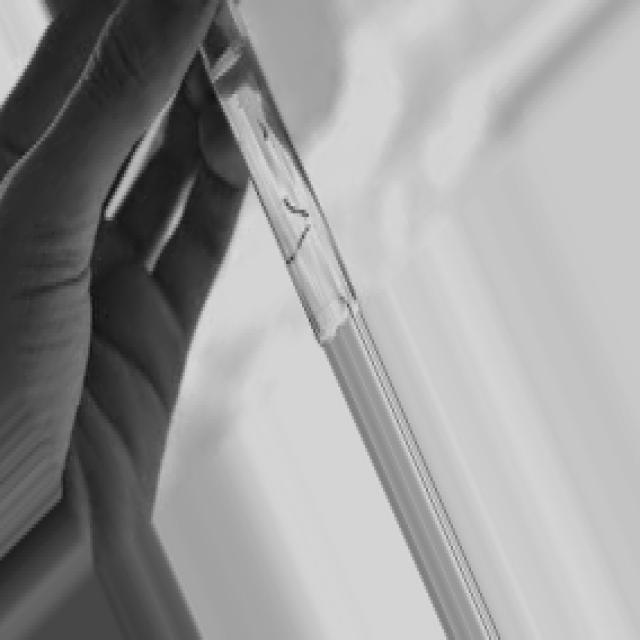larvas: (287, 225, 312, 265), (287, 200, 308, 217), (257, 120, 270, 141)
